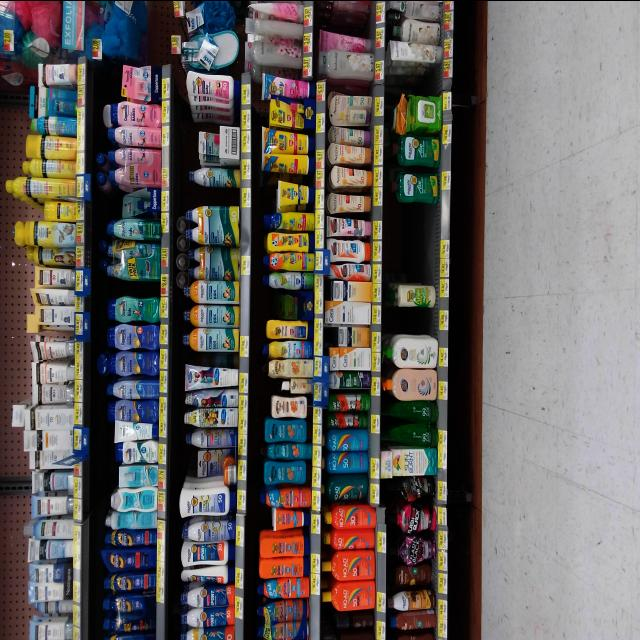empty_space: (387, 208, 435, 260), (389, 306, 439, 332), (195, 184, 238, 202), (406, 73, 443, 91)
